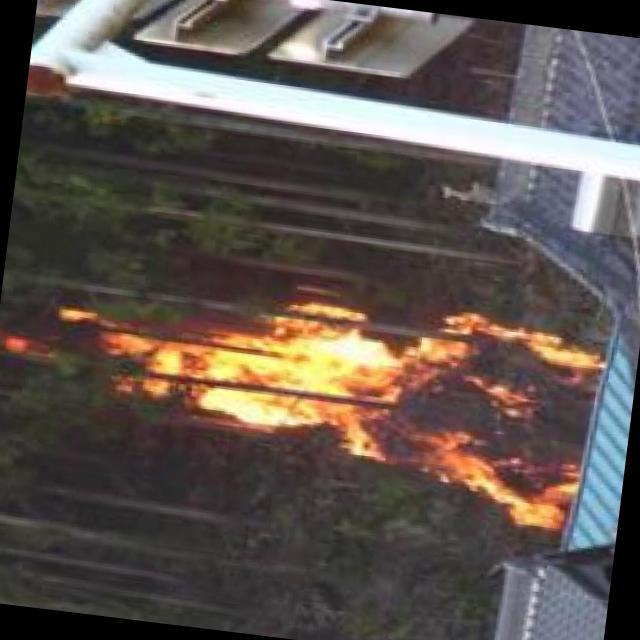Fire: (86, 272, 608, 534)
